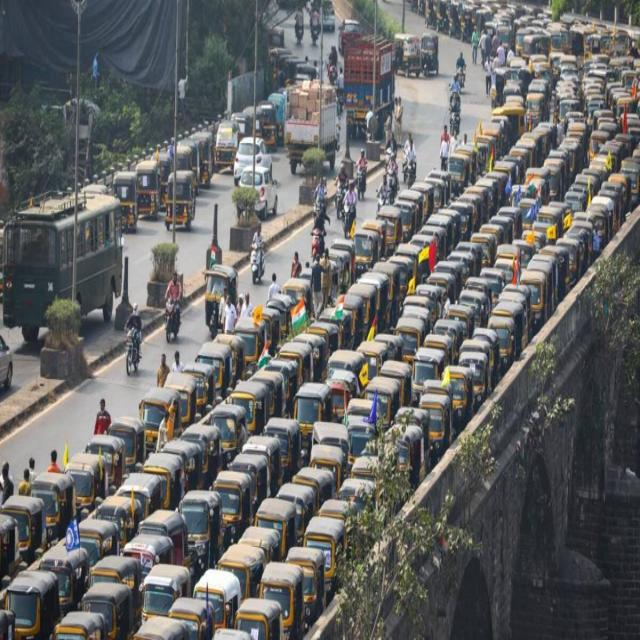Truck: (342, 34, 398, 136), (284, 81, 342, 170)
autorikshaw: (202, 268, 238, 337), (165, 171, 198, 228), (112, 170, 139, 227), (394, 31, 421, 79), (216, 119, 238, 169), (420, 32, 439, 76)
bus: (4, 190, 121, 339)
car: (232, 136, 274, 189), (238, 166, 278, 218)
motorcycle: (123, 318, 141, 378), (164, 286, 181, 342), (249, 240, 265, 282), (342, 196, 356, 237), (355, 160, 368, 199), (310, 227, 324, 262), (313, 193, 326, 229), (333, 182, 345, 220), (404, 157, 416, 191)
